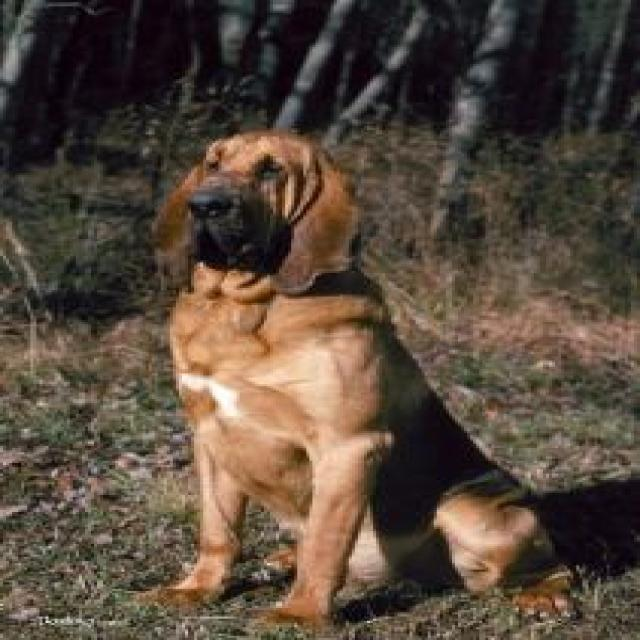bloodhound: (143, 130, 570, 634)
